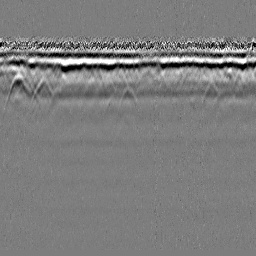cavity: (117, 85, 140, 110)
